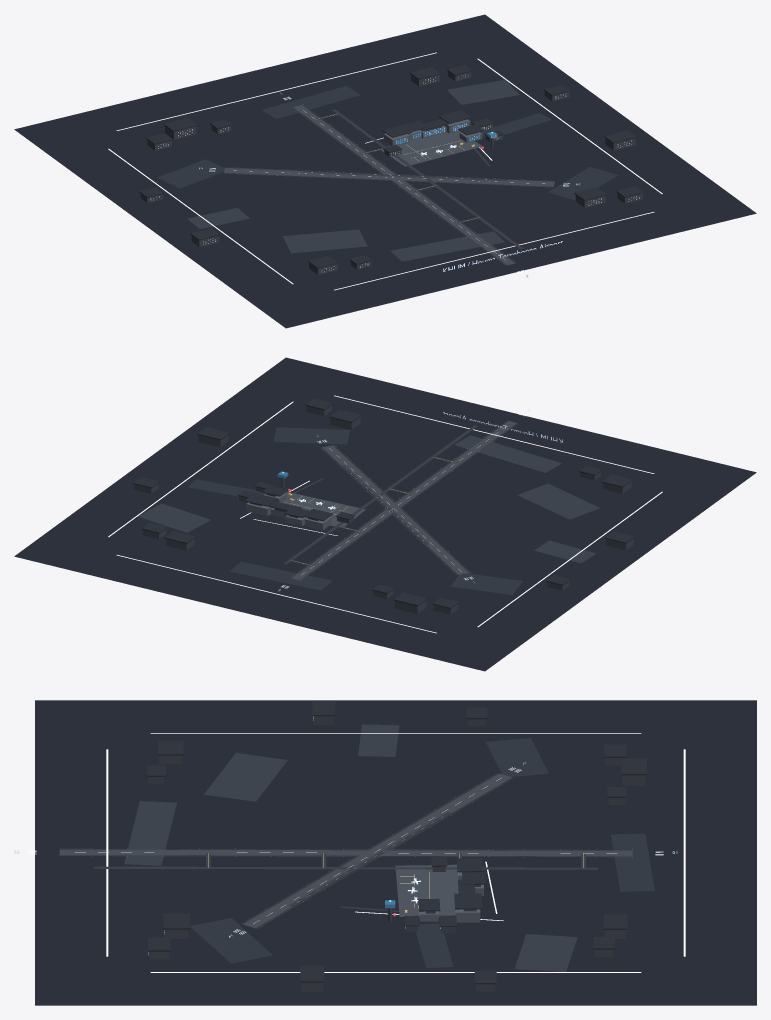
File: KHUM_Houma_Airport.glb
The picture shows the model from 3 angles, top to bottom: view 1: azimuth 30°, elevation 25°; view 2: azimuth 150°, elevation 25°; view 3: azimuth 270°, elevation 25°; orthographic projection. The views are drawn at different scales.
Visible parts, largest first — view 1: KHUM_airport_terrain_tile, RWY_18_36, RWY_12_30, FBO_Apron_Main, KHUM_night_land_parcel_2, KHUM_night_land_parcel_6, KHUM_night_land_parcel_5, KHUM_night_land_parcel_4, KHUM_night_land_parcel_3, KHUM_night_land_parcel_1, Taxiway_A_parallel_18_36, KHUM_night_land_parcel_8 (+1 smaller); view 2: KHUM_airport_terrain_tile, RWY_18_36, RWY_12_30, KHUM_night_land_parcel_2, KHUM_night_land_parcel_6, KHUM_night_land_parcel_3, KHUM_night_land_parcel_5, KHUM_night_land_parcel_4, KHUM_night_land_parcel_1, FBO_Apron_Main, KHUM_night_land_parcel_8, Taxiway_A_parallel_18_36 (+1 smaller); view 3: KHUM_airport_terrain_tile, RWY_18_36, RWY_12_30, FBO_Apron_Main, KHUM_night_land_parcel_2, KHUM_night_land_parcel_6, KHUM_night_land_parcel_3, KHUM_night_land_parcel_5, KHUM_night_land_parcel_4, KHUM_night_land_parcel_1, Taxiway_A_parallel_18_36, KHUM_night_land_parcel_8 (+6 smaller).
Boxes of the visible parts, x1,y1,x2,y2 form: KHUM_airport_terrain_tile: (14,14,756,328); RWY_18_36: (293,105,515,265); RWY_12_30: (224,167,554,186); FBO_Apron_Main: (381,131,482,166); KHUM_night_land_parcel_2: (283,229,367,253); KHUM_night_land_parcel_6: (390,231,504,261); KHUM_night_land_parcel_5: (262,86,360,118); KHUM_night_land_parcel_4: (447,80,519,104); KHUM_night_land_parcel_3: (548,167,618,200); KHUM_night_land_parcel_1: (157,159,224,188); Taxiway_A_parallel_18_36: (332,109,523,249); KHUM_night_land_parcel_8: (187,208,249,229); KHUM_airport_terrain_tile: (14,357,756,671); RWY_18_36: (291,421,516,580); RWY_12_30: (322,445,468,574); KHUM_night_land_parcel_2: (517,483,599,519); KHUM_night_land_parcel_6: (454,435,561,472); KHUM_night_land_parcel_3: (273,427,349,444); KHUM_night_land_parcel_5: (230,561,332,590); KHUM_night_land_parcel_4: (138,503,210,532); KHUM_night_land_parcel_1: (450,573,522,594); FBO_Apron_Main: (281,491,365,526); KHUM_night_land_parcel_8: (534,540,596,563); Taxiway_A_parallel_18_36: (283,425,477,564); KHUM_airport_terrain_tile: (35,700,756,1005); RWY_18_36: (59,849,632,856); RWY_12_30: (243,773,511,928); FBO_Apron_Main: (395,864,458,916); KHUM_night_land_parcel_2: (204,753,287,801); KHUM_night_land_parcel_6: (124,801,176,865); KHUM_night_land_parcel_3: (190,918,272,963); KHUM_night_land_parcel_5: (611,833,654,891); KHUM_night_land_parcel_4: (514,934,577,971); KHUM_night_land_parcel_1: (486,738,548,776); Taxiway_A_parallel_18_36: (94,866,597,869); KHUM_night_land_parcel_8: (358,724,399,756).
Size of the model in its own units: 2500 by 97.26 by 2573.
